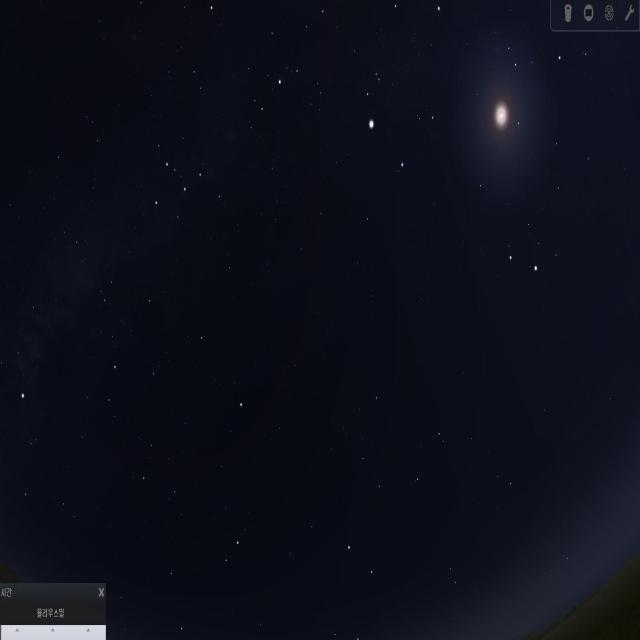cassiopeia: (152, 140, 234, 227)
moon: (482, 74, 530, 172)
